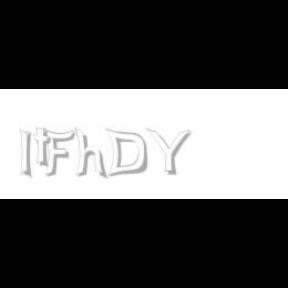D: (104, 128, 148, 178)
F: (43, 128, 75, 178)
Y: (145, 128, 191, 176)
h: (74, 128, 110, 180)
l: (20, 128, 36, 180)
t: (33, 128, 55, 168)
